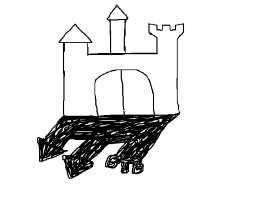chimney: (101, 1, 135, 59)
door: (91, 64, 159, 118)
roof: (47, 5, 198, 62)
shadow: (31, 111, 186, 182)
wall: (54, 40, 185, 120)
